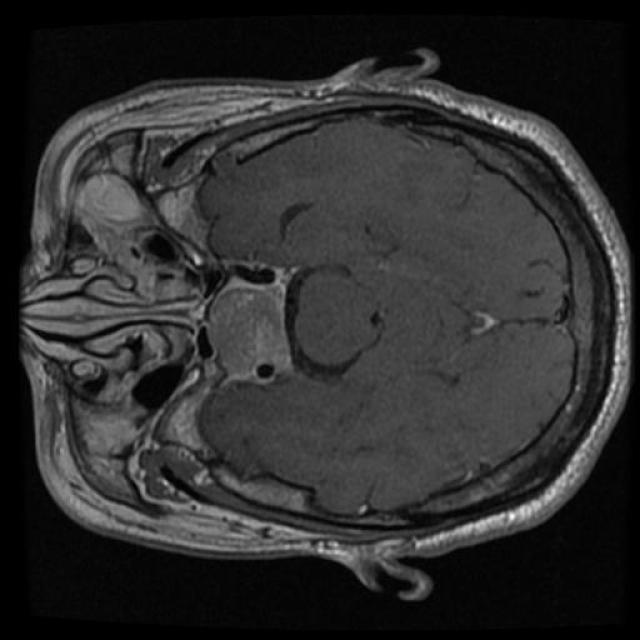Pituitary: (205, 263, 296, 384)
